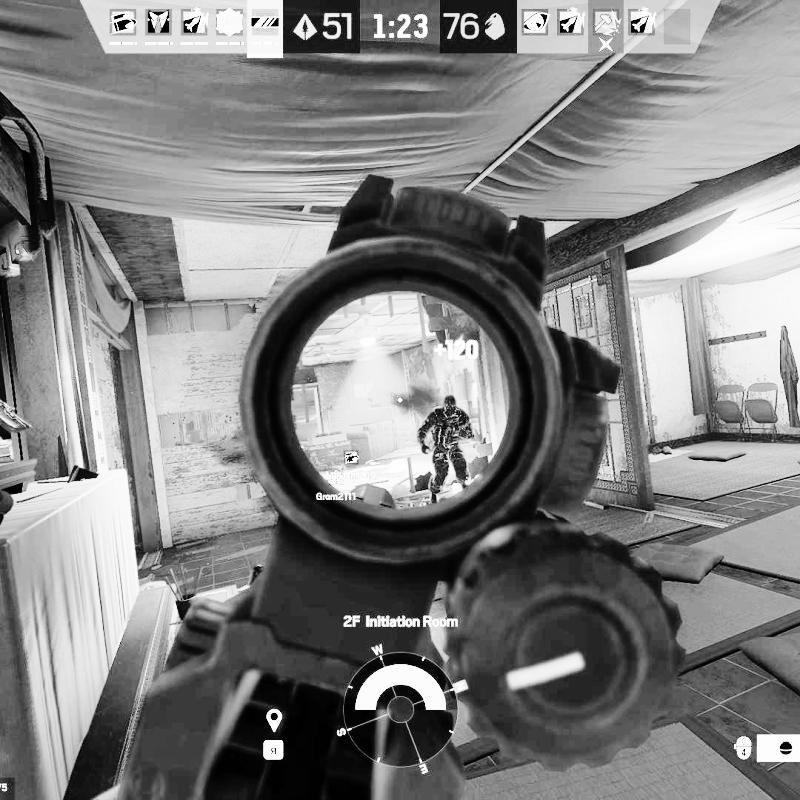Character: (419, 395, 478, 496)
Friend_label: (326, 450, 377, 482), (316, 470, 356, 502)
Head: (442, 393, 457, 410)
